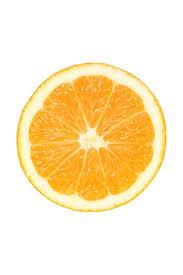orange: (5, 55, 176, 215)
